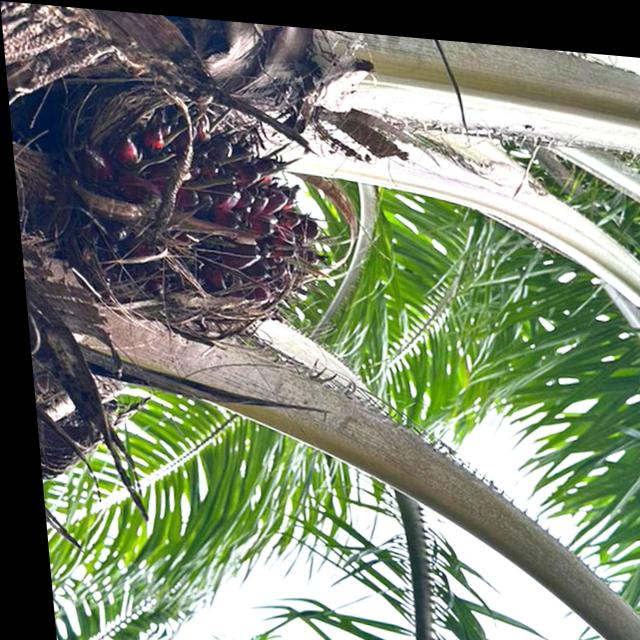ripe: (55, 114, 316, 345)
